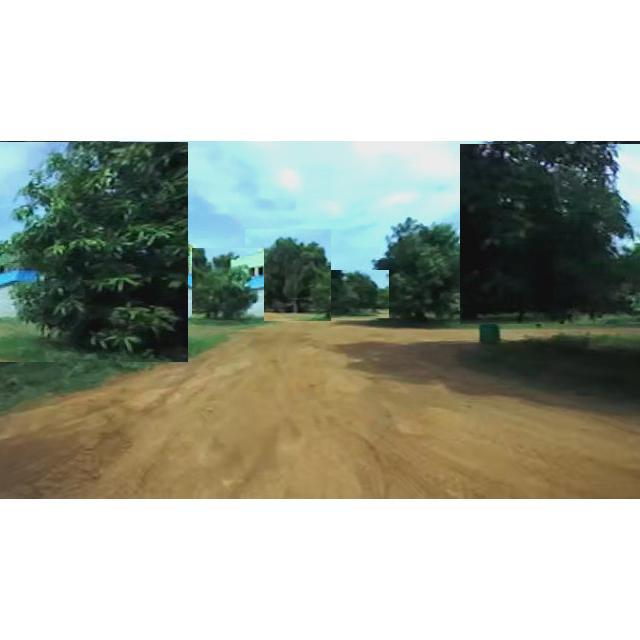direk: (0, 142, 188, 362), (460, 144, 640, 324), (366, 194, 489, 328), (245, 229, 331, 321), (192, 248, 264, 326), (329, 270, 389, 318)
